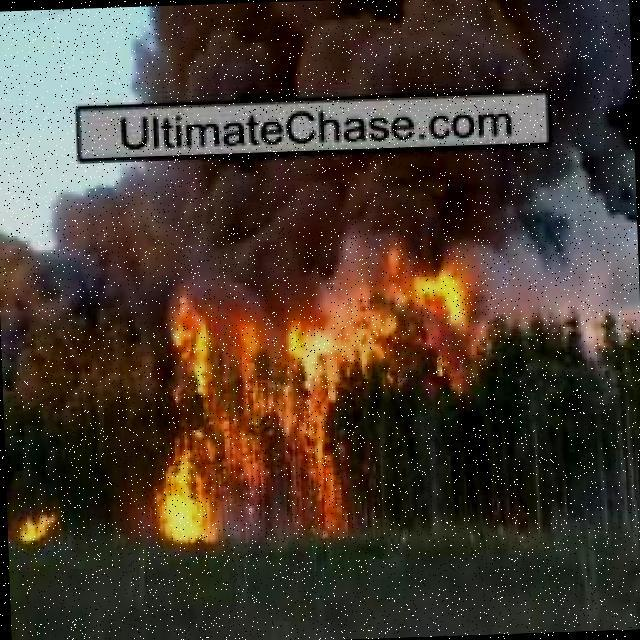Fire: (147, 281, 344, 551), (367, 240, 474, 379), (19, 508, 54, 544)
